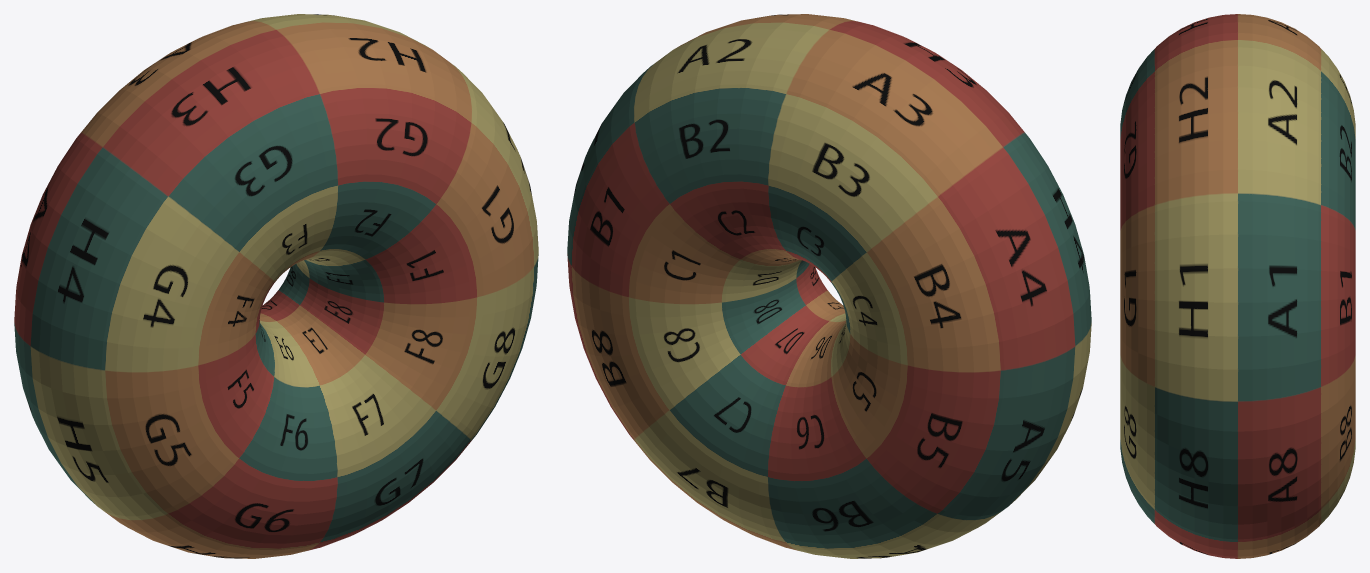
The model's file is texture_torus_R1_r23.glb.
3 views of the same model, side by side, from view 1: azimuth 30°, elevation 25°; view 2: azimuth 150°, elevation 25°; view 3: azimuth 270°, elevation 25° (orthographic). The views are drawn at different scales.
Visible parts, largest first — view 1: world; view 2: world; view 3: world.
Part boxes in pixels (x1,y1,x2,y2): world: [14, 14, 538, 558]; world: [567, 14, 1091, 558]; world: [1120, 14, 1355, 558].
Size of the model in its own units: 18.8 by 18.76 by 8.12.
Materials: 1 (1 with a texture image).
